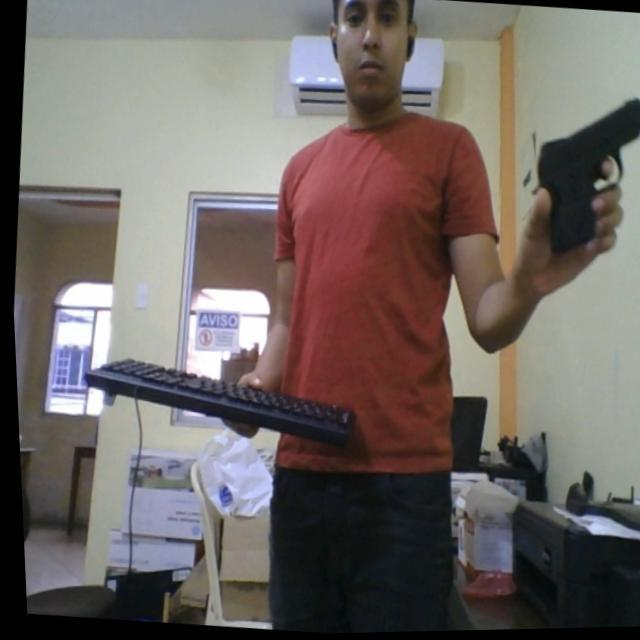weapon: (511, 88, 640, 264)
